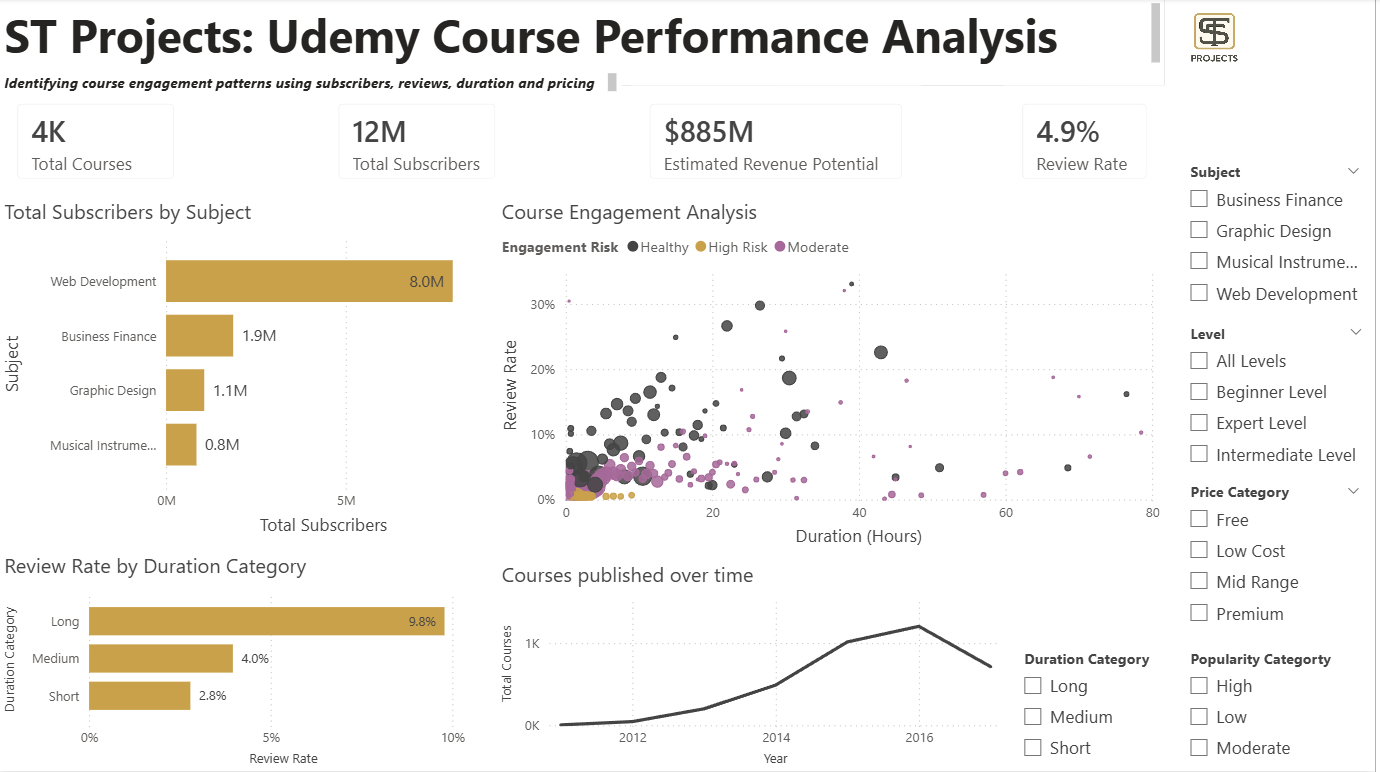

What the dashboard file says about the page in this screenshot:
{"tool":"powerbi","page":{"name":"Udemy analysis","canvas":[1280,720],"ordinal":0},"visuals":[{"type":"cardVisual","fields":{"Data":["Courses.Total Courses"]},"box":[0,81.4,180.2,104.7],"z":0},{"type":"textbox","box":[0,0,1084.9,81.4],"z":1000},{"type":"image","box":[1084.9,0,174.4,81.4],"z":2000},{"type":"cardVisual","fields":{"Data":["Courses.Total Subscribers"]},"box":[298.8,81.4,180.2,104.7],"z":3000},{"type":"cardVisual","fields":{"Data":["Courses.Total Revenue"]},"box":[588.4,81.4,269.8,104.7],"z":4000},{"type":"cardVisual","fields":{"Data":["Courses.Review Rate"]},"box":[934.9,81.4,150,104.7],"z":5000},{"type":"clusteredBarChart","fields":{"Category":["Courses.Subject"],"Y":["Courses.Total Subscribers"]},"box":[0,186,462.8,318.6],"z":6000},{"type":"clusteredBarChart","fields":{"Y":["Courses.Review Rate"],"Category":["Courses.Duration Category"]},"box":[0,515.1,462.8,204.7],"z":7000},{"type":"scatterChart","title":"Course Engagement Analysis","fields":{"Y":["Courses.Review Rate"],"X":["Courses.Duration (Hours)"],"Size":["Sum(Courses.No. of subscribers)"],"Series":["Courses.Engagement Risk"]},"box":[462.8,186,622.1,329.1],"z":8000},{"type":"lineChart","title":"Courses published over time","fields":{"Category":["Courses.Timestamp.Variation.Date Hierarchy.Year","Courses.Timestamp.Variation.Date Hierarchy.Quarter","Courses.Timestamp.Variation.Date Hierarchy.Month","Courses.Timestamp.Variation.Date Hierarchy.Day"],"Y":["Courses.Total Courses"]},"box":[462.8,523.3,477.9,196.5],"z":9000},{"type":"slicer","fields":{"Values":["Courses.Subject"]},"box":[1095.4,147.7,182.6,150],"z":10000},{"type":"slicer","fields":{"Values":["Courses.Level"]},"box":[1095.4,297.7,184.9,147.7],"z":11000},{"type":"slicer","fields":{"Values":["Courses.Price Category"]},"box":[1095.4,445.4,182.6,154.7],"z":12000},{"type":"slicer","fields":{"Values":["Courses.Duration Category"]},"box":[940.7,600,154.7,119.8],"z":13000},{"type":"slicer","fields":{"Values":["Courses.Popularity Categorty"]},"box":[1095.4,600,182.6,119.8],"z":14000},{"type":"textbox","box":[0,65.1,579.1,31.4],"z":14001}]}

Visuals, with their boxes in screenshot pixels (x1, y1, x2, y2), scaled from the page's 1280x720 canvas onto the 1380x772 screenshot:
cardVisual - Courses.Total Courses: 0/87/194/200
textbox: 0/0/1170/87
image: 1170/0/1358/87
cardVisual - Courses.Total Subscribers: 322/87/516/200
cardVisual - Courses.Total Revenue: 634/87/925/200
cardVisual - Courses.Review Rate: 1008/87/1170/200
clusteredBarChart - Courses.Subject x Courses.Total Subscribers: 0/199/499/541
clusteredBarChart - Courses.Review Rate x Courses.Duration Category: 0/552/499/771
"Course Engagement Analysis" scatterChart: 499/199/1170/552
"Courses published over time" lineChart: 499/561/1014/771
slicer - Courses.Subject: 1181/158/1378/319
slicer - Courses.Level: 1181/319/1379/478
slicer - Courses.Price Category: 1181/478/1378/643
slicer - Courses.Duration Category: 1014/643/1181/771
slicer - Courses.Popularity Categorty: 1181/643/1378/771
textbox: 0/70/624/103
